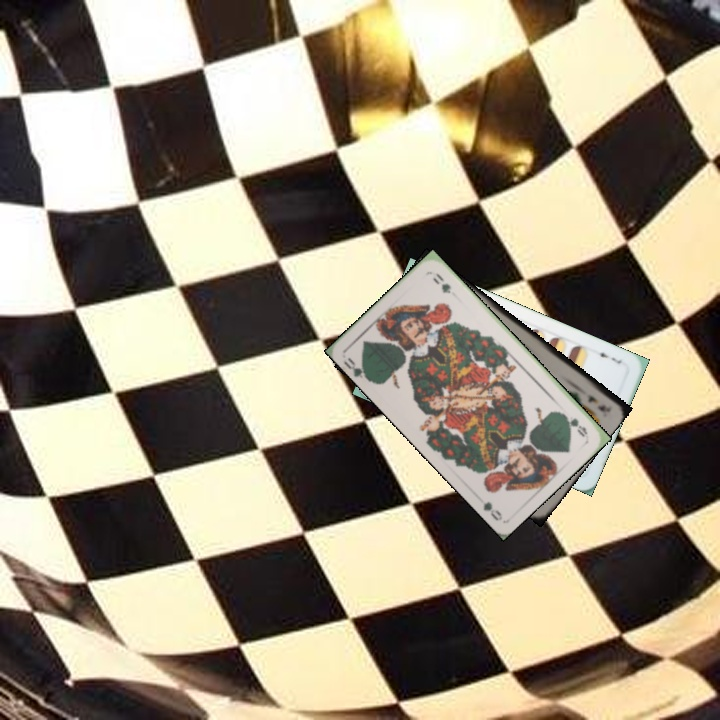E7: (592, 346, 624, 366)
EK: (583, 391, 609, 415)
GO: (557, 408, 590, 439), (341, 354, 375, 384)
